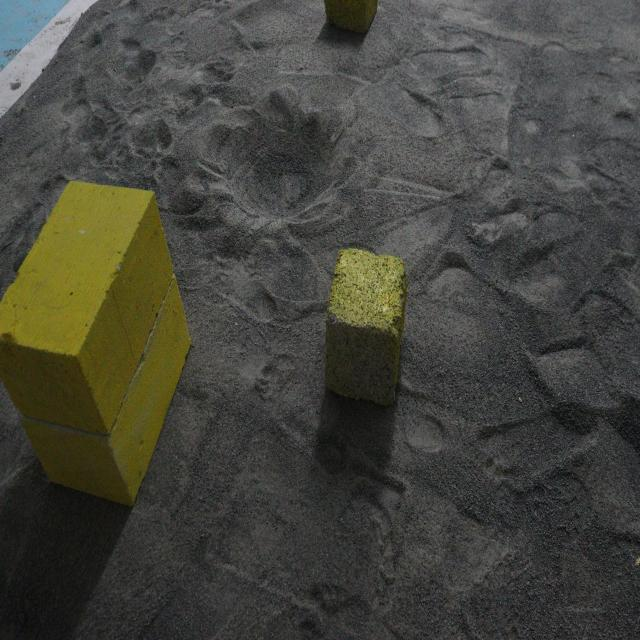box: (0, 179, 204, 505), (326, 242, 415, 405)
crater: (183, 95, 369, 232)
